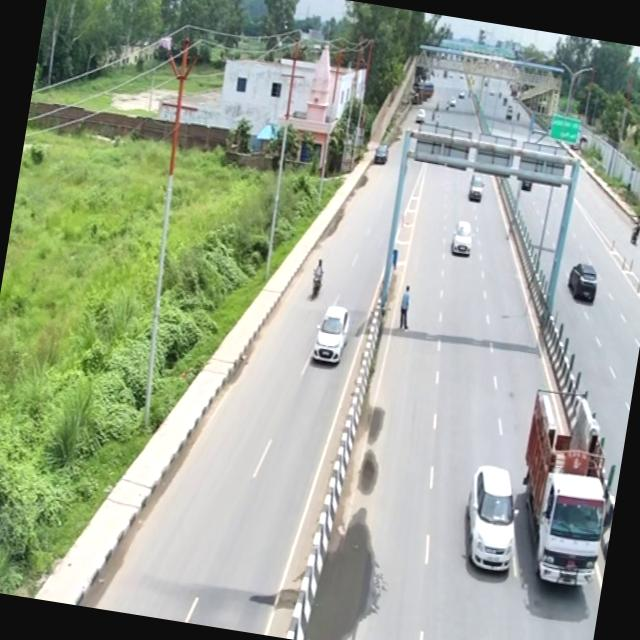car: (456, 459, 528, 577), (308, 296, 356, 368), (563, 255, 608, 308), (446, 213, 482, 261), (464, 170, 489, 204)
